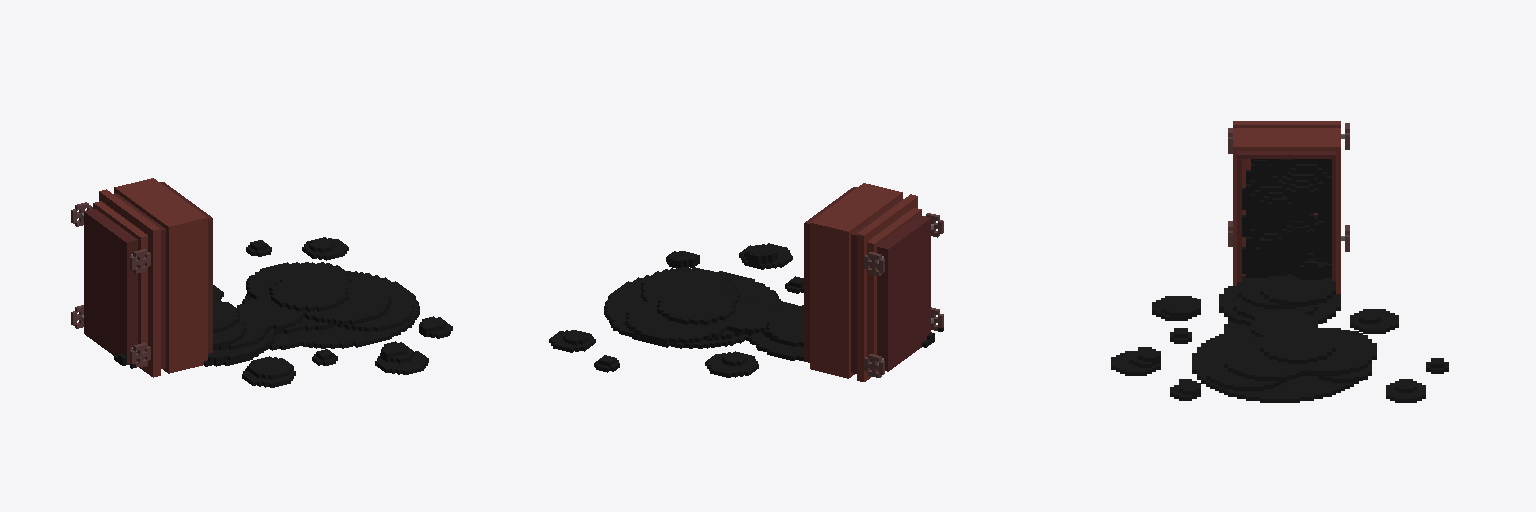
3 views of the same model, side by side, from view 1: azimuth 30°, elevation 25°; view 2: azimuth 150°, elevation 25°; view 3: azimuth 270°, elevation 25° (orthographic).
Visible parts, largest first — view 1: object 1; view 2: object 1; view 3: object 1.
Part boxes in pixels (x1,y1,x2,y2): object 1: (71, 178, 452, 387); object 1: (549, 183, 943, 381); object 1: (1111, 121, 1448, 402).
Size of the model in its own units: 7.7 by 3.6 by 7.5.
1 materials, 1 textured.